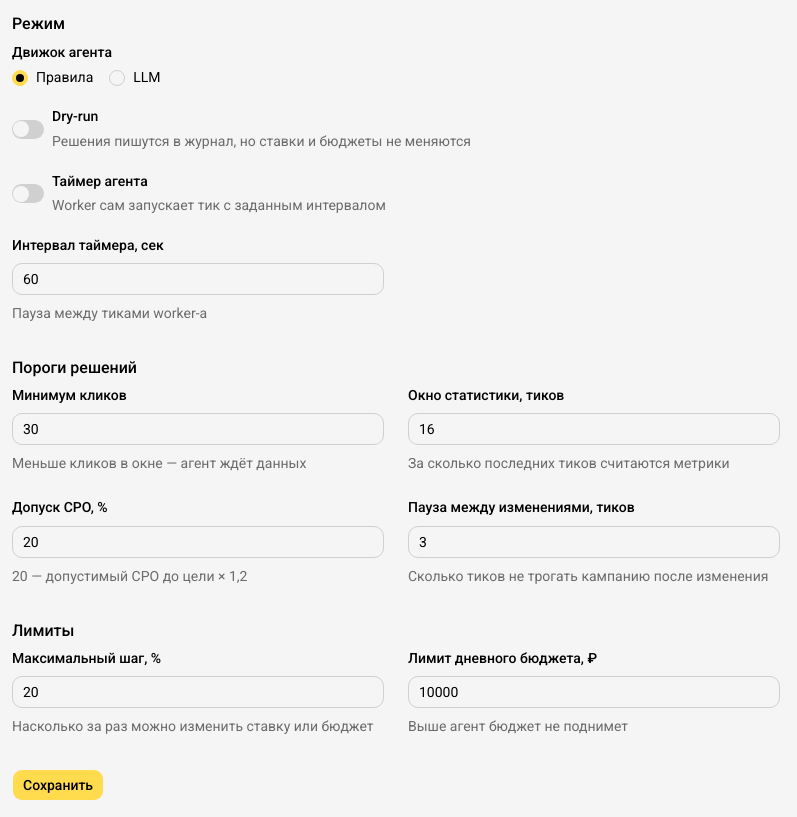
Test case: AgentConfigForm › ошибка сервера показывается сообщением
The width and height of the screenshot is (797, 817).
Click the button "Сохранить".
click(58, 785)  # box 12,769 -> 104,801
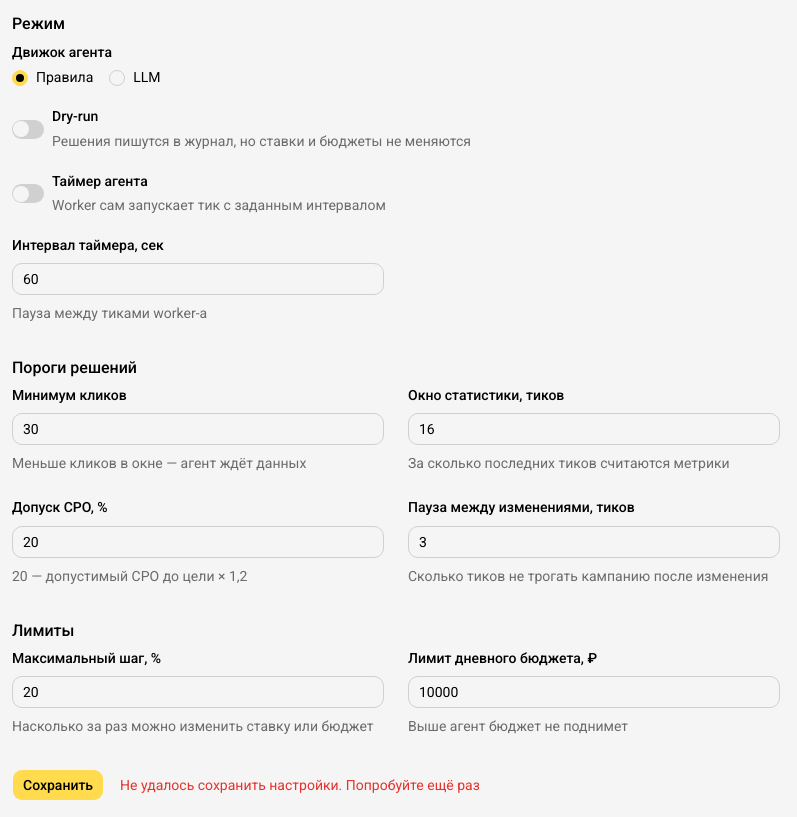
Now the message reads "Не удалось сохранить настройки. Попробуйте ещё раз", box 120,777 -> 480,793
